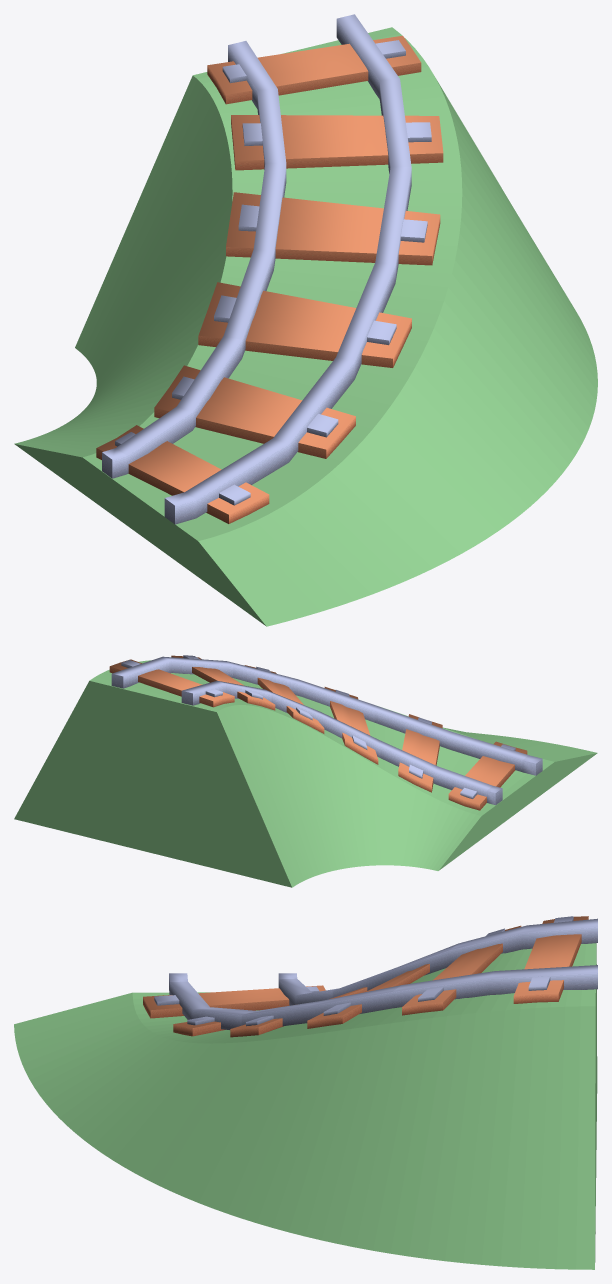
The model's file is hill-corner-down.glb.
3 views of the same model, one above another, from view 1: azimuth 30°, elevation 25°; view 2: azimuth 150°, elevation 25°; view 3: azimuth 270°, elevation 25° (orthographic). The views are drawn at different scales.
Parts seen in each view (by area): view 1: corner_down_mound, corner_down_rails; view 2: corner_down_mound, corner_down_rails; view 3: corner_down_mound, corner_down_rails.
Boxes of the visible parts, left/top/right/bottom form: corner_down_mound: left=14, top=27, right=597, bottom=626; corner_down_rails: left=96, top=14, right=443, bottom=524; corner_down_mound: left=14, top=660, right=597, bottom=887; corner_down_rails: left=109, top=655, right=542, bottom=810; corner_down_mound: left=14, top=943, right=597, bottom=1269; corner_down_rails: left=143, top=916, right=597, bottom=1037.
Size of the model in its own units: 3.2 by 1.4 by 3.2.
2 materials, 1 textured.
